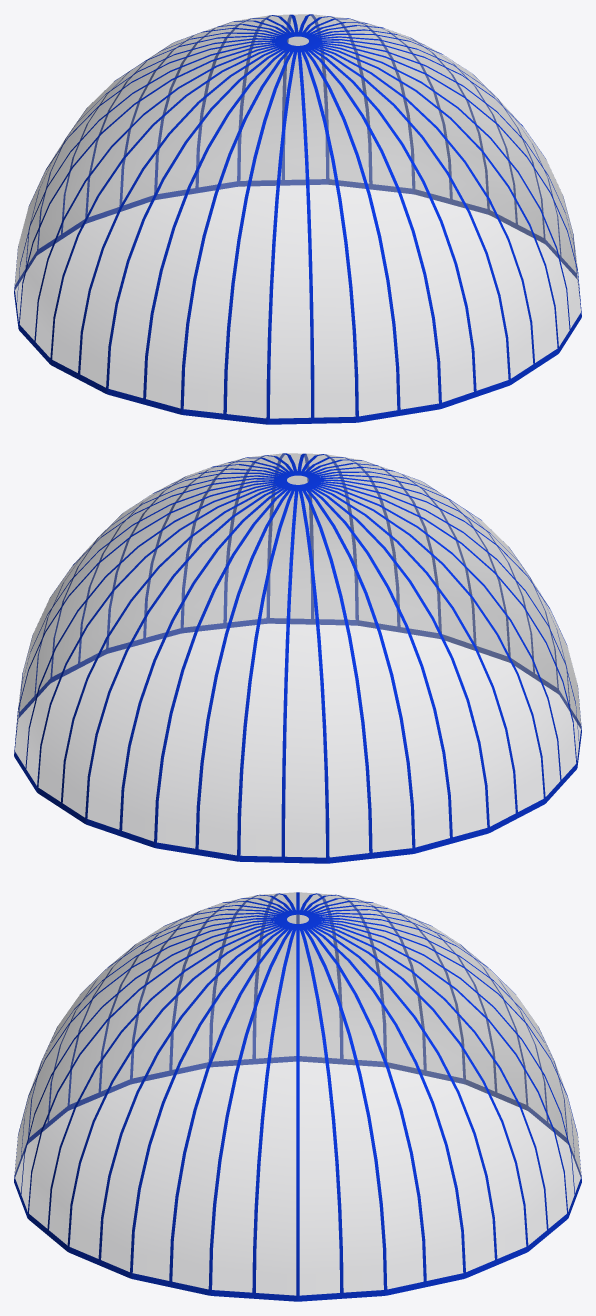
The model's file is HALF_SFERE_SCENE_1_HYPOTEHSES_ROOM.fbx.
3 renders of one model, top to bottom at view 1: azimuth 30°, elevation 25°; view 2: azimuth 150°, elevation 25°; view 3: azimuth 270°, elevation 25°, orthographic.
Visible parts, largest first — view 1: pSphere1; view 2: pSphere1; view 3: pSphere1.
Boxes of the visible parts, box(x1,y1,x2,y2) form: pSphere1: box(14, 14, 581, 424); pSphere1: box(14, 453, 581, 863); pSphere1: box(14, 892, 581, 1301).
Bounding box in the file's own units: 19.07 × 9.71 × 19.07.
